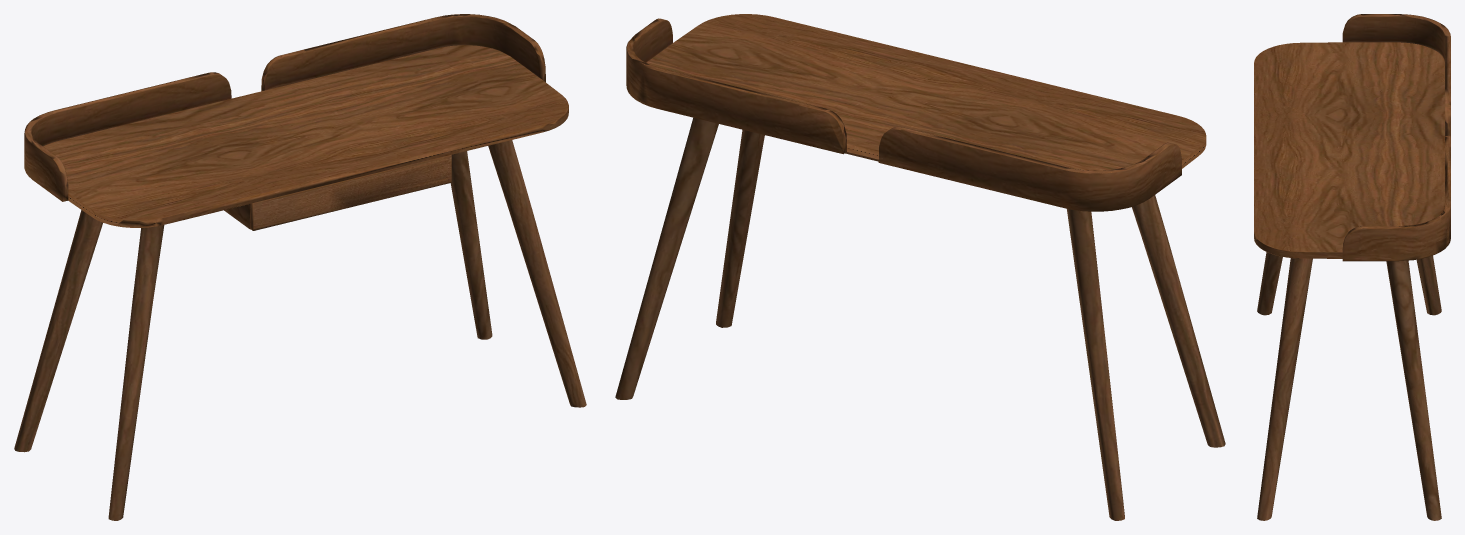
File: B075ZBVZST.glb
3 views of the same model, side by side, from view 1: azimuth 30°, elevation 25°; view 2: azimuth 150°, elevation 25°; view 3: azimuth 270°, elevation 25° (orthographic). The views are drawn at different scales.
Parts seen in each view (by area): view 1: RootNode; view 2: RootNode; view 3: RootNode.
Part boxes in pixels (<box>): RootNode: <box>14,14,586,520</box>; RootNode: <box>615,14,1225,520</box>; RootNode: <box>1254,14,1450,520</box>.
Size of the model in its own units: 1.26 by 0.8005 by 0.4864.
1 material, 1 textured.
